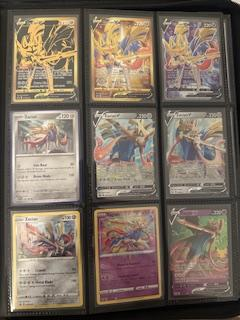card: (8, 208, 85, 314), (6, 107, 83, 208), (91, 206, 164, 308), (165, 203, 238, 302), (88, 107, 161, 203), (159, 108, 233, 201), (9, 11, 80, 106), (87, 10, 157, 105), (160, 12, 227, 104)
